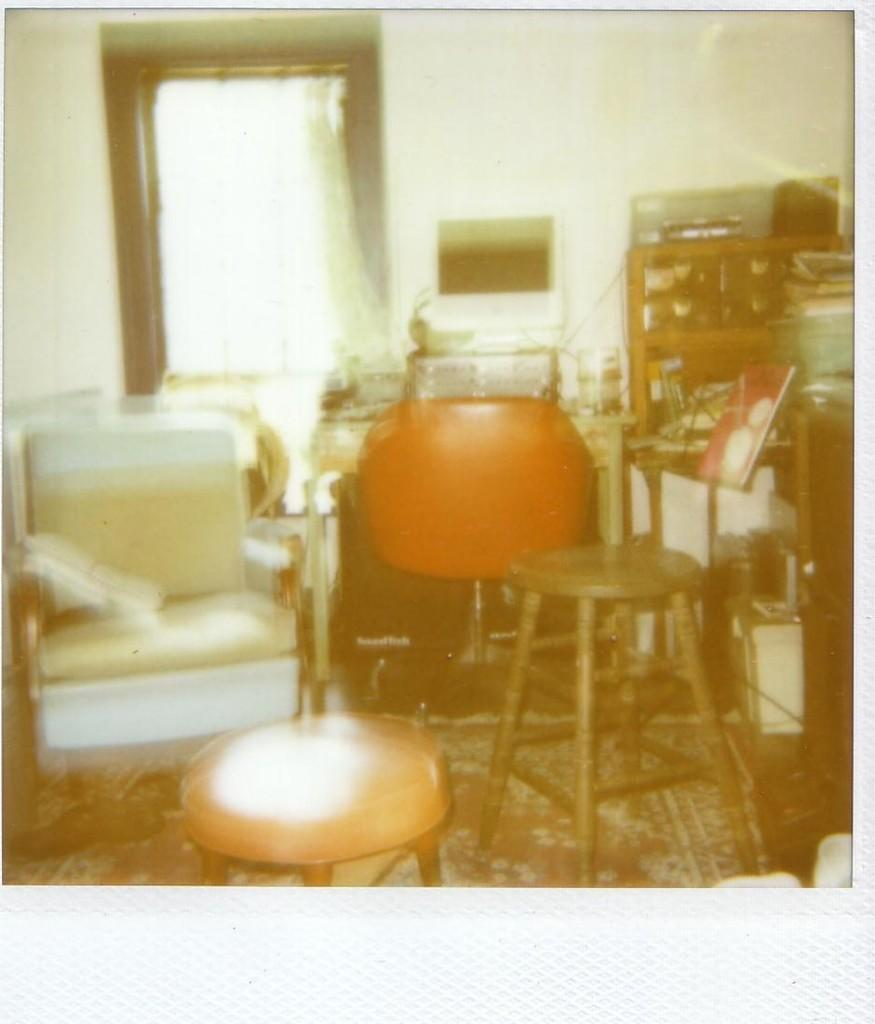Chair: (10, 373, 321, 786), (331, 381, 632, 735)
